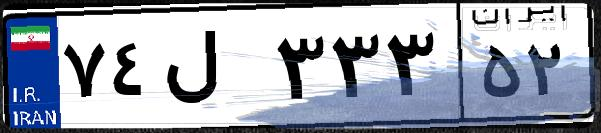2: (525, 38, 570, 115)
3: (270, 28, 330, 110), (385, 28, 445, 110), (330, 28, 385, 110)
4: (110, 28, 158, 98)
5: (475, 38, 525, 113)
7: (57, 26, 110, 100)
ل: (158, 20, 270, 120)
